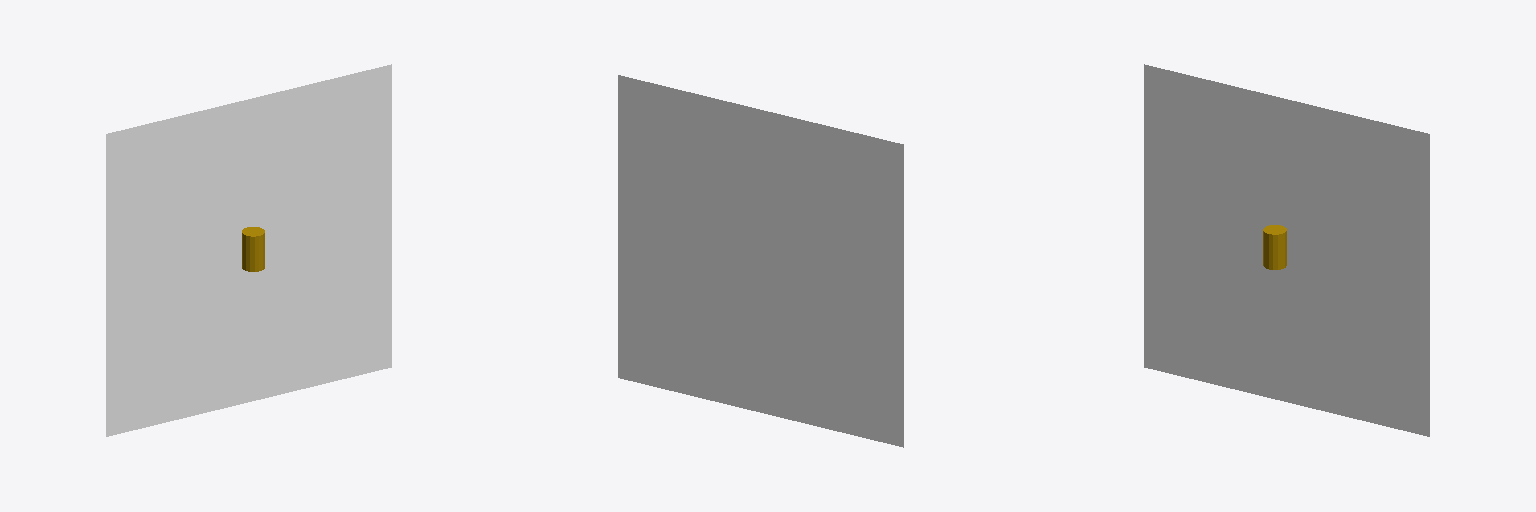
The model's file is scene_vide_blanc.obj.
3 views of the same model, side by side, from view 1: azimuth 30°, elevation 25°; view 2: azimuth 150°, elevation 25°; view 3: azimuth 330°, elevation 25° (orthographic).
Parts seen in each view (by area): view 1: Cube_1, Cylinder_1; view 2: Cube_1; view 3: Cube_1, Cylinder_1.
Part boxes in pixels (x1,y1,x2,y2): Cube_1: (106, 64, 391, 436); Cylinder_1: (242, 227, 264, 271); Cube_1: (618, 75, 903, 447); Cube_1: (1144, 64, 1429, 436); Cylinder_1: (1263, 225, 1286, 269).
Size of the model in its own units: 34.14 by 34.56 by 2.95.